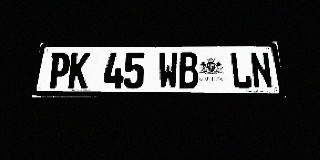4: (103, 52, 125, 89)
5: (124, 52, 145, 89)
B: (178, 52, 199, 89)
K: (67, 52, 91, 89)
L: (229, 52, 253, 89)
N: (249, 52, 274, 89)
P: (47, 52, 71, 89)
W: (158, 52, 178, 89)
